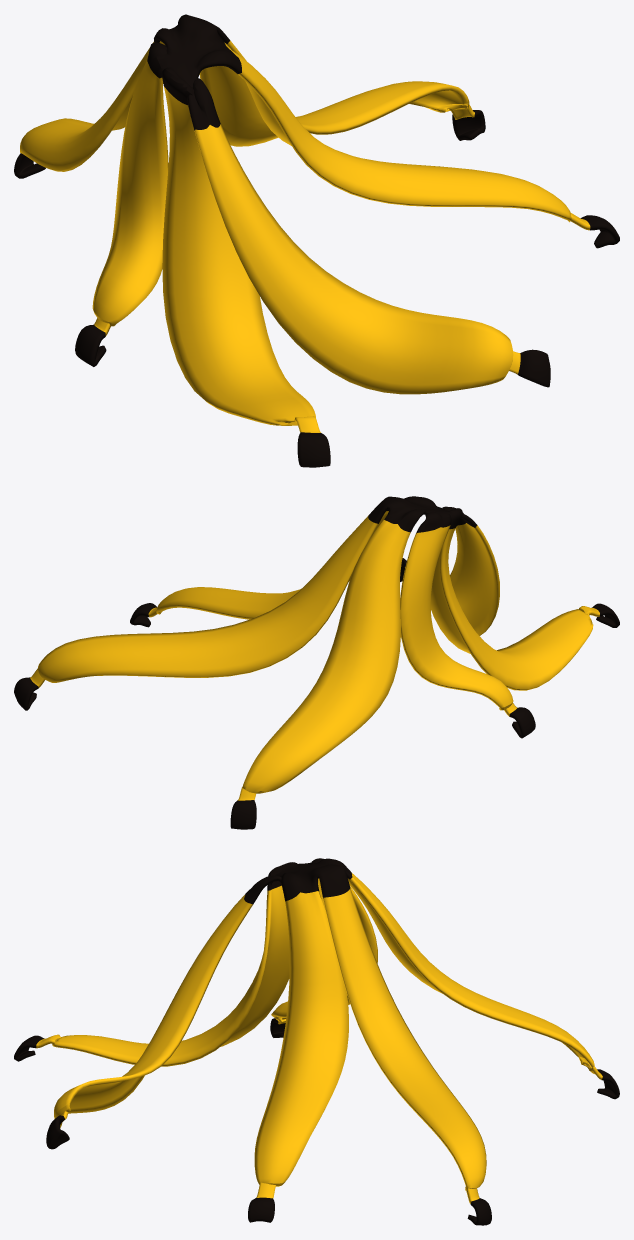
The model's file is GAME-BANANASKIN.fbx.
3 renders of one model, top to bottom at view 1: azimuth 30°, elevation 25°; view 2: azimuth 150°, elevation 25°; view 3: azimuth 270°, elevation 25°, orthographic. The views are drawn at different scales.
Visible parts, largest first — view 1: Circle; view 2: Circle; view 3: Circle.
Boxes of the visible parts, x1,y1,x2,y2 form: Circle: (14,14,619,467); Circle: (14,496,619,829); Circle: (14,858,619,1225).
Bounding box in the file's own units: 862 × 447 × 1095.
